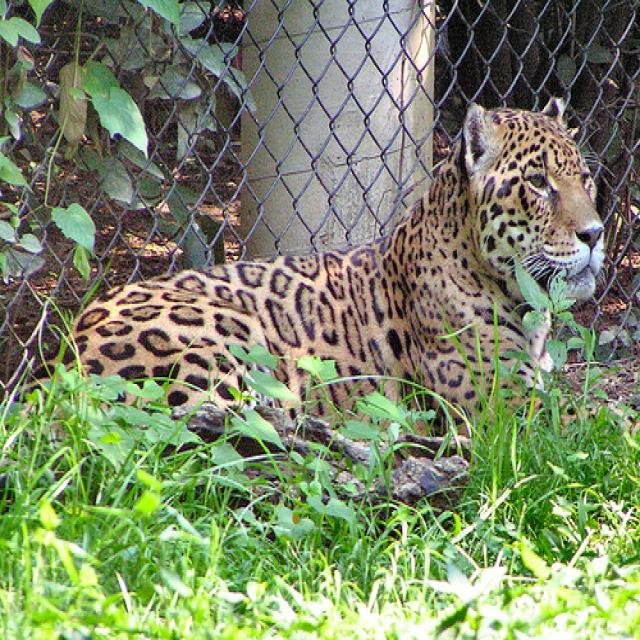Leopard: (47, 94, 608, 466)
